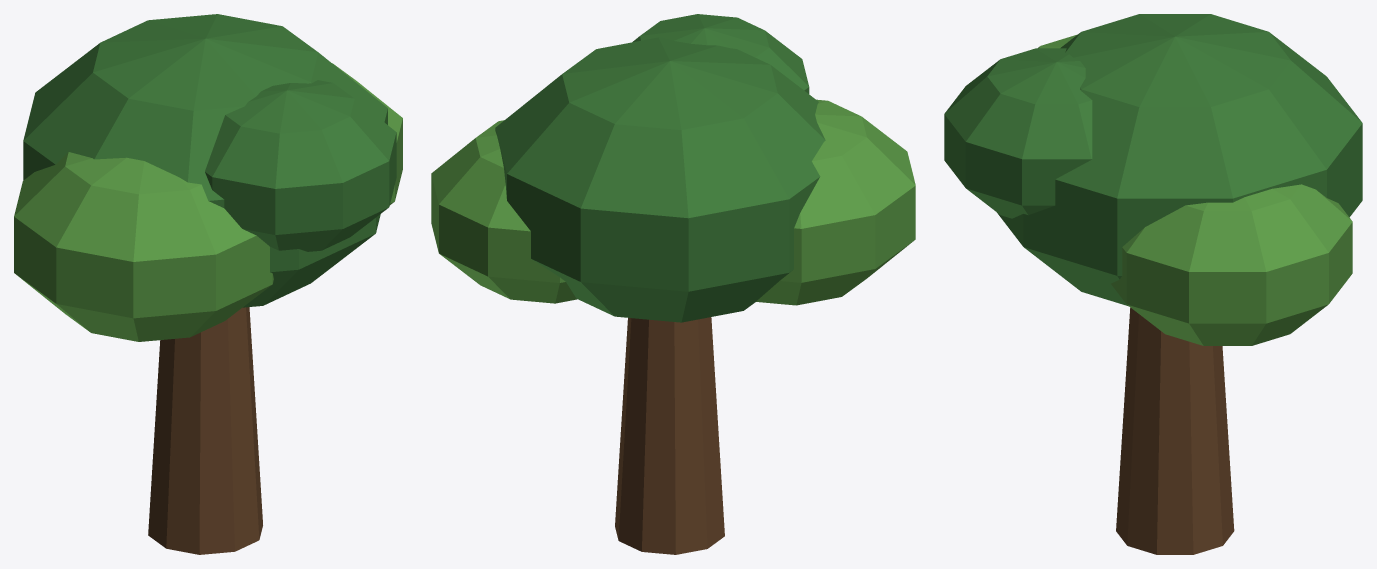
The model's file is arvore.glb.
3 views of the same model, side by side, from view 1: azimuth 30°, elevation 25°; view 2: azimuth 150°, elevation 25°; view 3: azimuth 270°, elevation 25° (orthographic). The views are drawn at different scales.
Visible parts, largest first — view 1: arvore; view 2: arvore; view 3: arvore.
Part boxes in pixels (<box>): arvore: <box>14,14,402,554</box>; arvore: <box>431,14,915,554</box>; arvore: <box>944,14,1362,554</box>.
Bounding box in the file's own units: 3.6 × 4.15 × 3.18.
